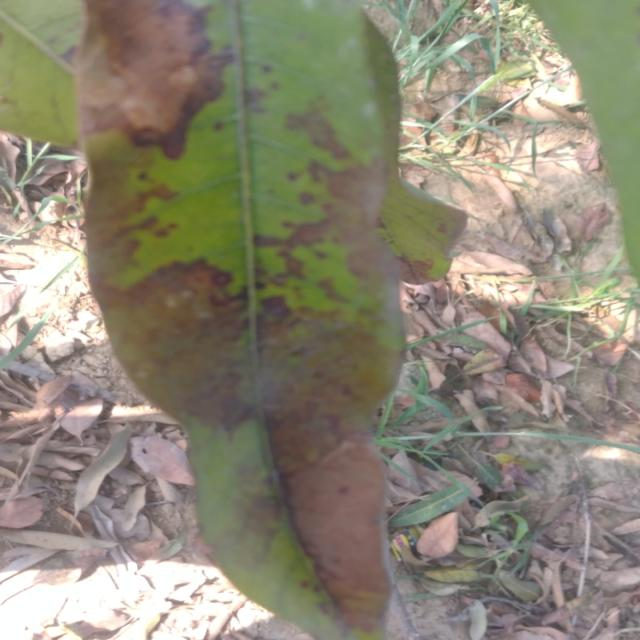Anthracnose: (85, 200, 401, 407), (71, 3, 239, 162), (261, 442, 404, 606)
